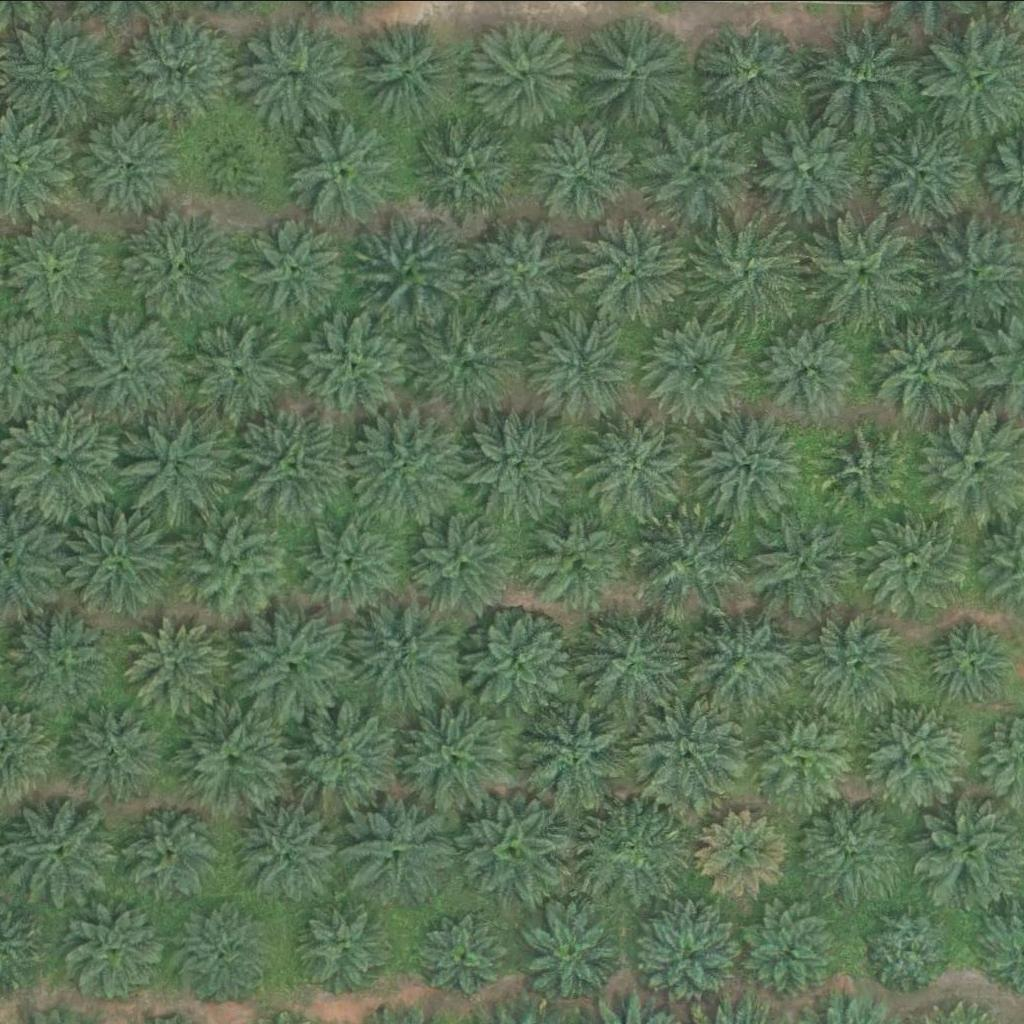Kelapa_Sawit: (120, 11, 234, 124), (177, 510, 291, 623), (235, 405, 349, 518), (353, 405, 467, 518), (409, 306, 523, 419), (524, 305, 638, 418), (4, 403, 117, 516), (116, 406, 229, 519), (65, 504, 178, 617), (5, 795, 118, 908), (117, 797, 230, 910), (230, 796, 343, 909), (343, 790, 456, 903), (457, 790, 570, 903), (398, 700, 511, 813), (524, 698, 637, 811), (634, 695, 747, 808), (466, 409, 579, 522), (584, 402, 697, 515), (643, 309, 756, 422), (287, 113, 400, 226), (409, 116, 522, 229), (244, 17, 357, 130), (348, 13, 461, 126), (471, 13, 584, 126), (583, 18, 696, 131), (810, 214, 923, 327), (864, 312, 977, 425), (687, 603, 800, 716), (299, 305, 413, 417), (464, 213, 578, 325), (581, 214, 695, 326), (642, 111, 756, 223), (810, 17, 924, 129), (125, 208, 238, 320), (72, 305, 185, 417), (6, 602, 119, 714), (579, 790, 692, 902), (176, 705, 289, 817), (292, 702, 405, 814), (236, 603, 349, 715), (348, 597, 461, 709), (460, 603, 573, 715), (573, 608, 686, 720), (403, 504, 516, 616), (633, 507, 746, 619), (181, 311, 294, 423), (357, 213, 470, 325), (690, 219, 803, 331), (869, 116, 982, 228), (859, 510, 972, 622), (754, 114, 867, 226), (687, 410, 800, 522), (746, 506, 859, 618), (125, 611, 226, 711), (63, 698, 164, 798), (299, 897, 400, 997), (522, 904, 623, 1004), (526, 507, 627, 607), (246, 215, 347, 315), (801, 614, 902, 714), (752, 703, 853, 803), (738, 896, 839, 996), (798, 794, 899, 894), (78, 110, 178, 210), (9, 217, 109, 317), (69, 900, 169, 1000), (173, 900, 273, 1000), (638, 904, 738, 1004), (304, 512, 404, 612), (529, 120, 629, 220), (702, 21, 802, 121), (864, 704, 964, 804), (821, 423, 910, 511), (418, 912, 506, 1000), (699, 808, 787, 896), (925, 622, 1013, 709), (764, 323, 852, 410), (866, 901, 954, 988), (203, 127, 266, 189)
